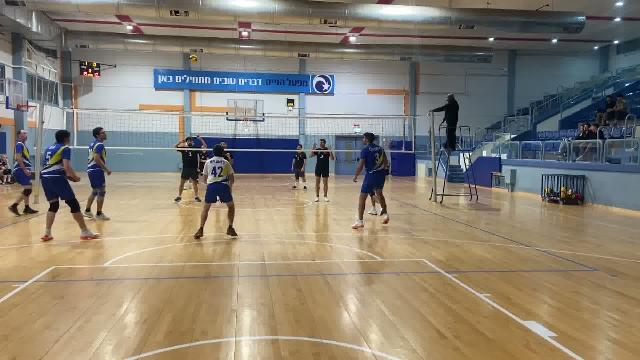ball: (187, 53, 201, 68)
